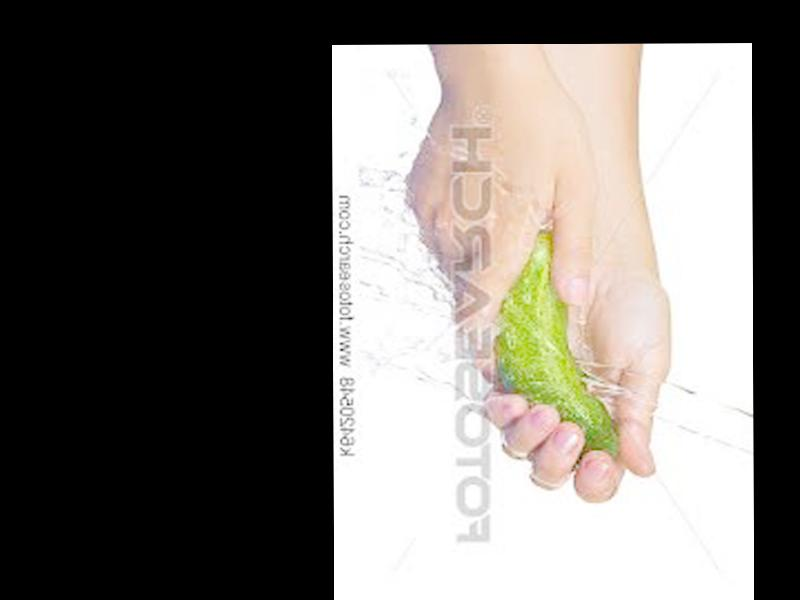Cucumber: (490, 223, 619, 461)
